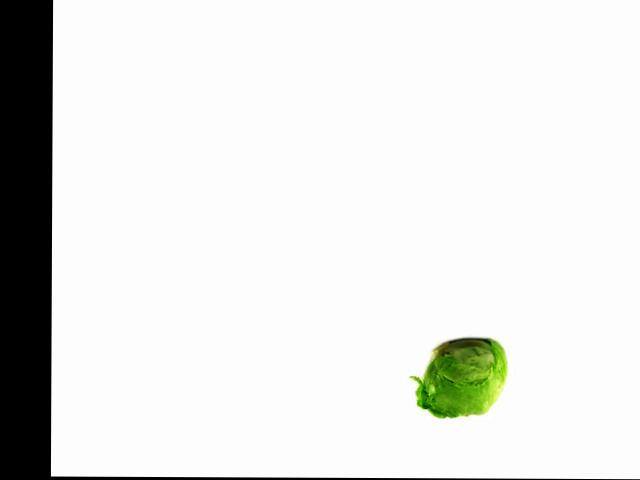lettuce: (419, 335, 510, 422)
